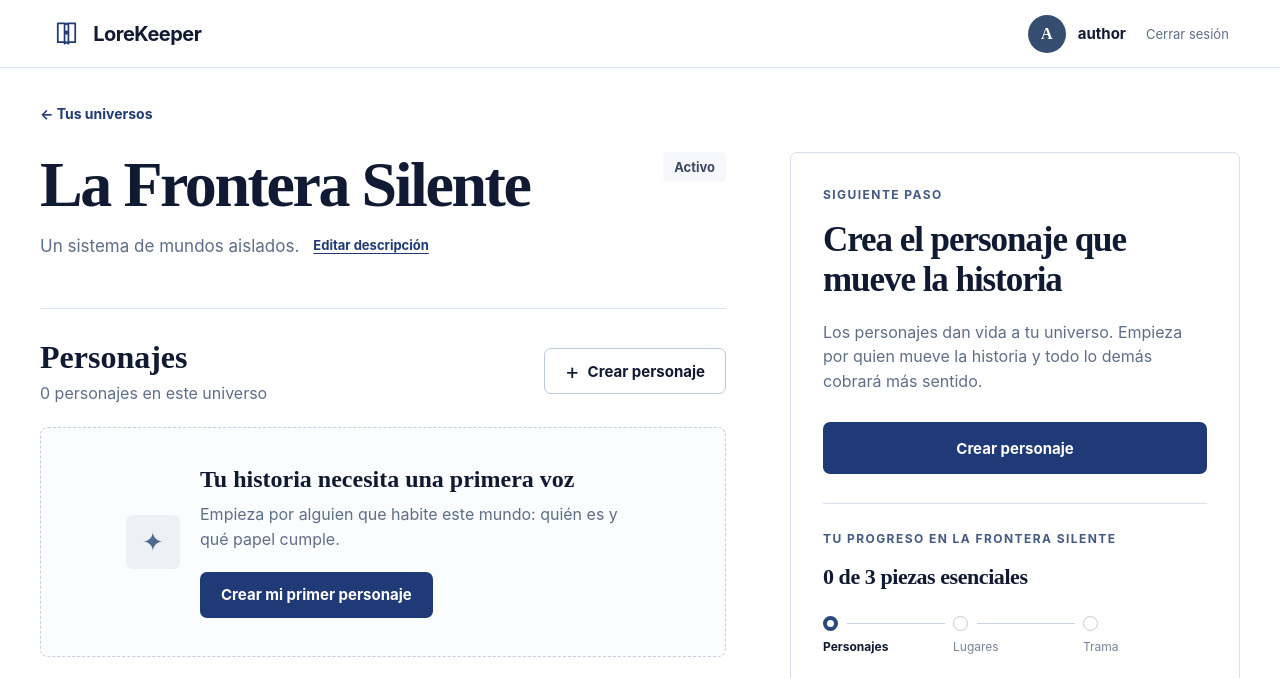
Test case: App › edits a universe description from its detail screen
Click the button "Editar descripción": {"x": 371, "y": 244} [313,232,429,256]
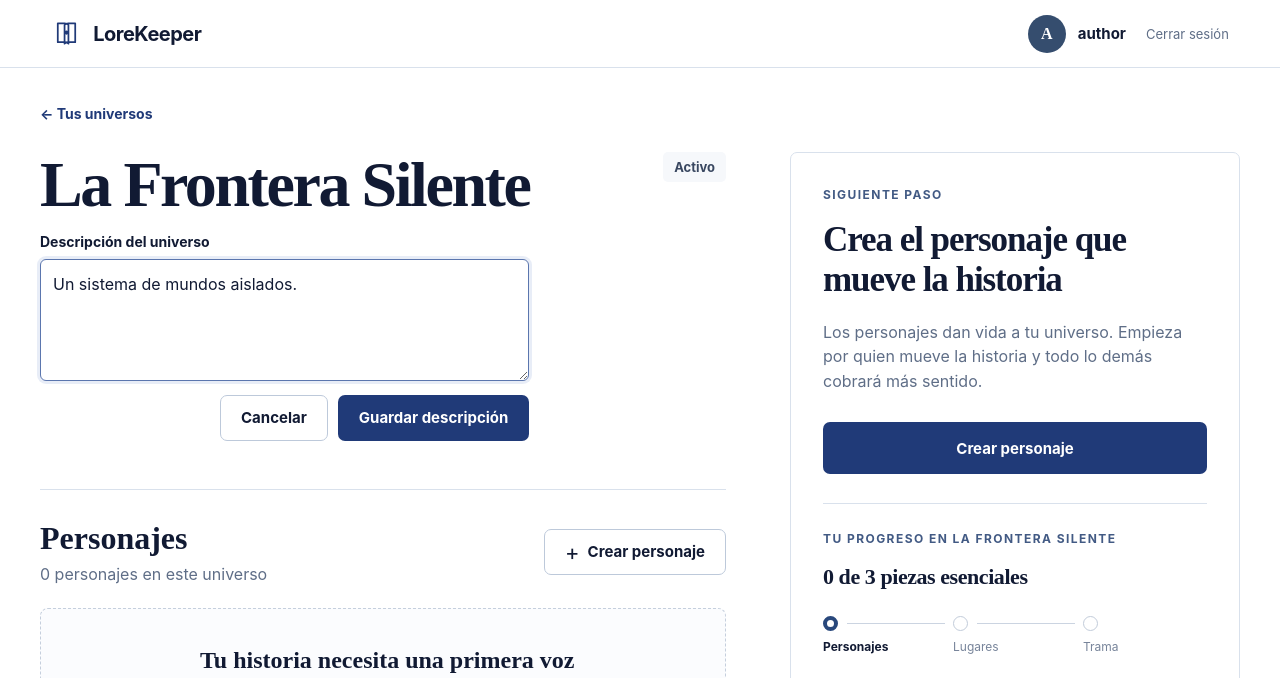
Replace the text in the text box labelled "Descripción del universo" with "Una nueva descripción del mundo.": {"x": 285, "y": 320} [40,258,529,380]
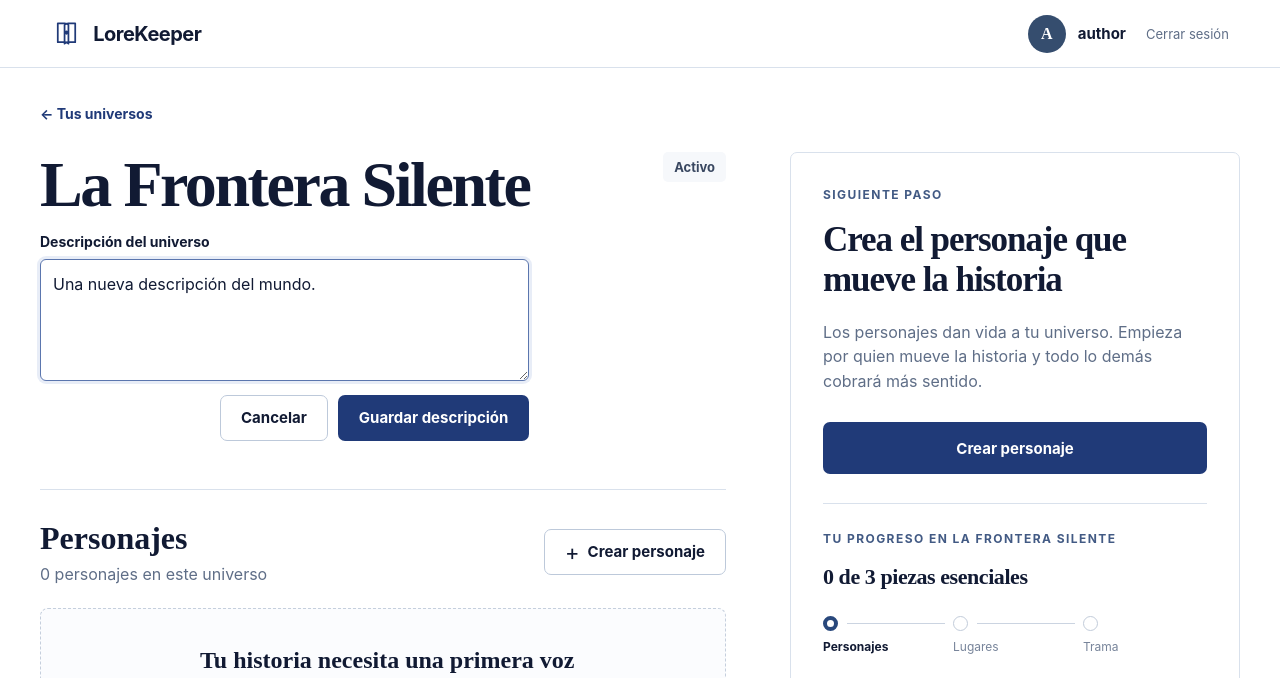
Click the button "Guardar descripción": {"x": 434, "y": 418} [338,394,529,440]
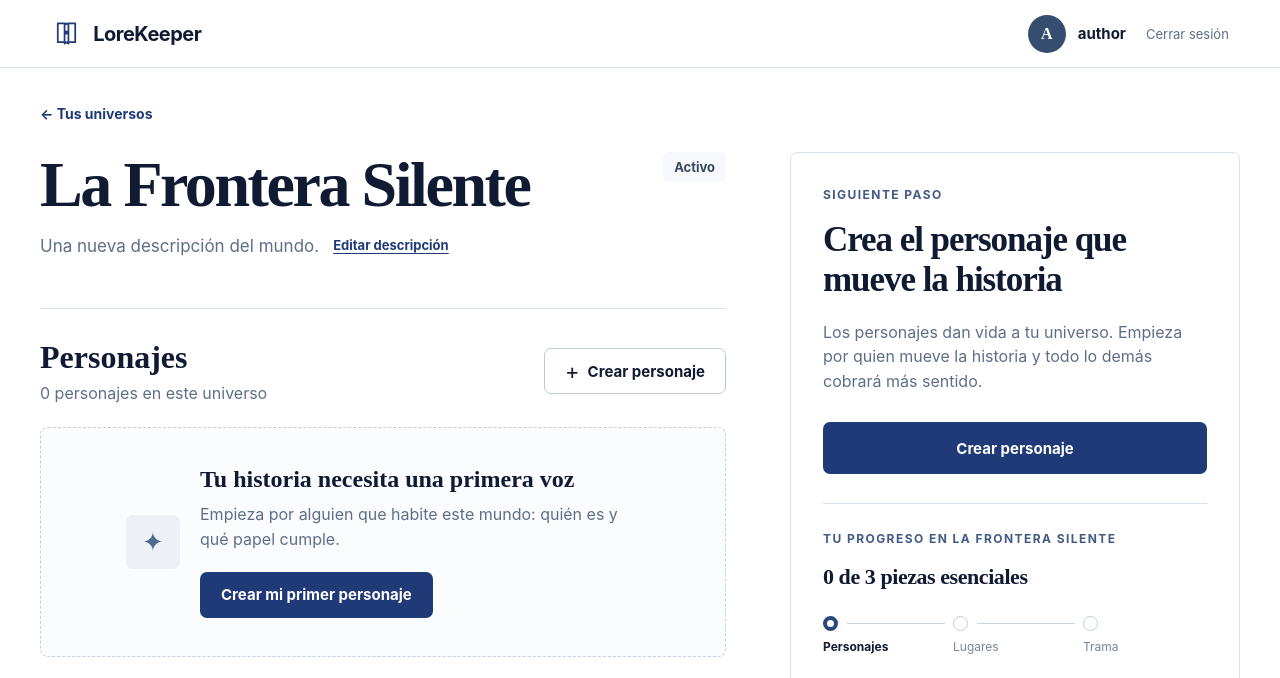
expect the text "Una nueva descripción del mundo." is shown: met, box [40,232,319,260]
